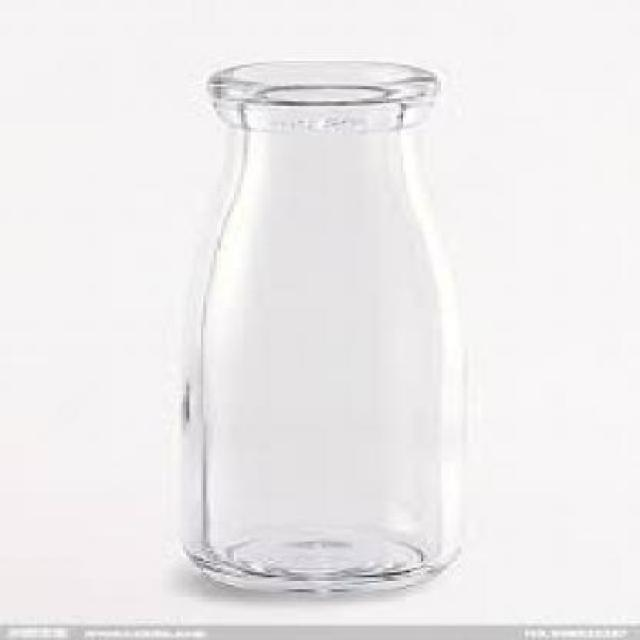kaca: (175, 63, 454, 589)
